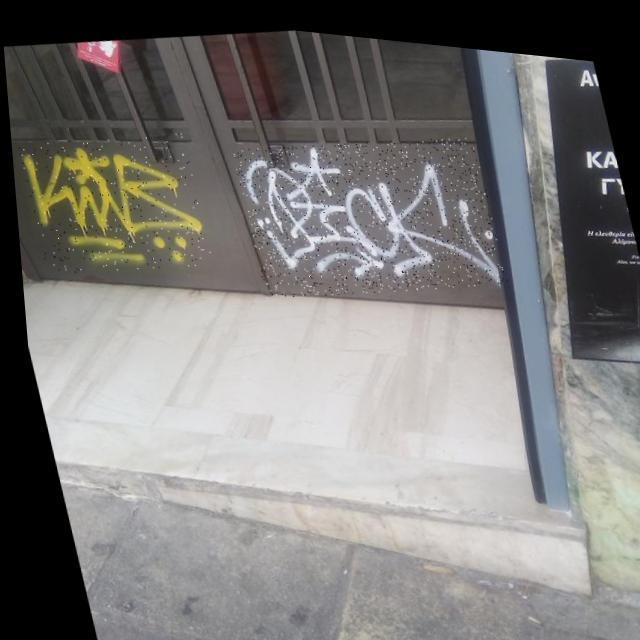-: (227, 106, 507, 313), (13, 116, 211, 287)
